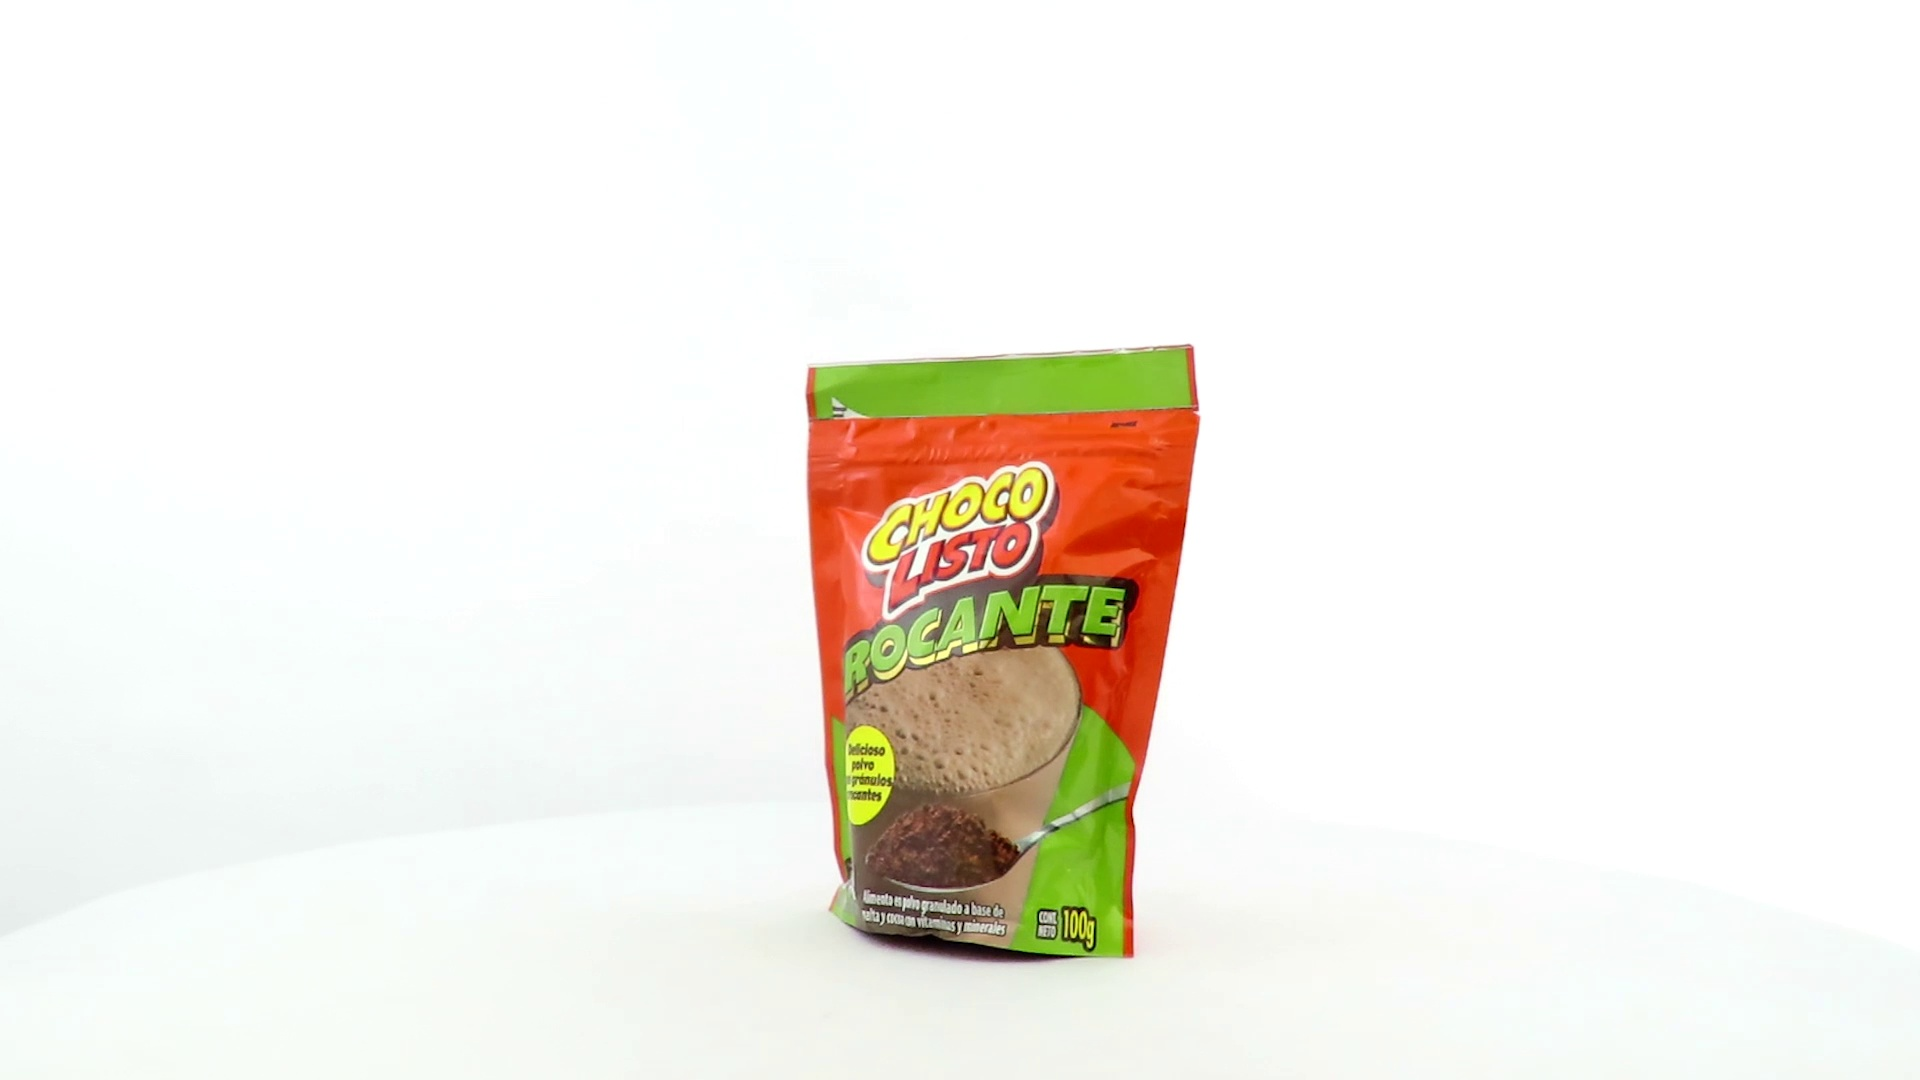COL0170102DYP10000: (800, 339, 1207, 969)
